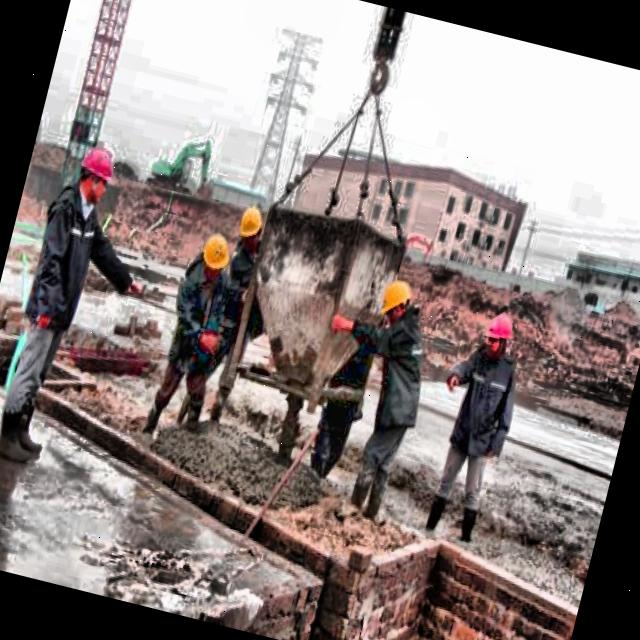helmet: (68, 137, 123, 212), (372, 271, 420, 330), (190, 226, 233, 289), (479, 308, 516, 366), (232, 200, 270, 255)
